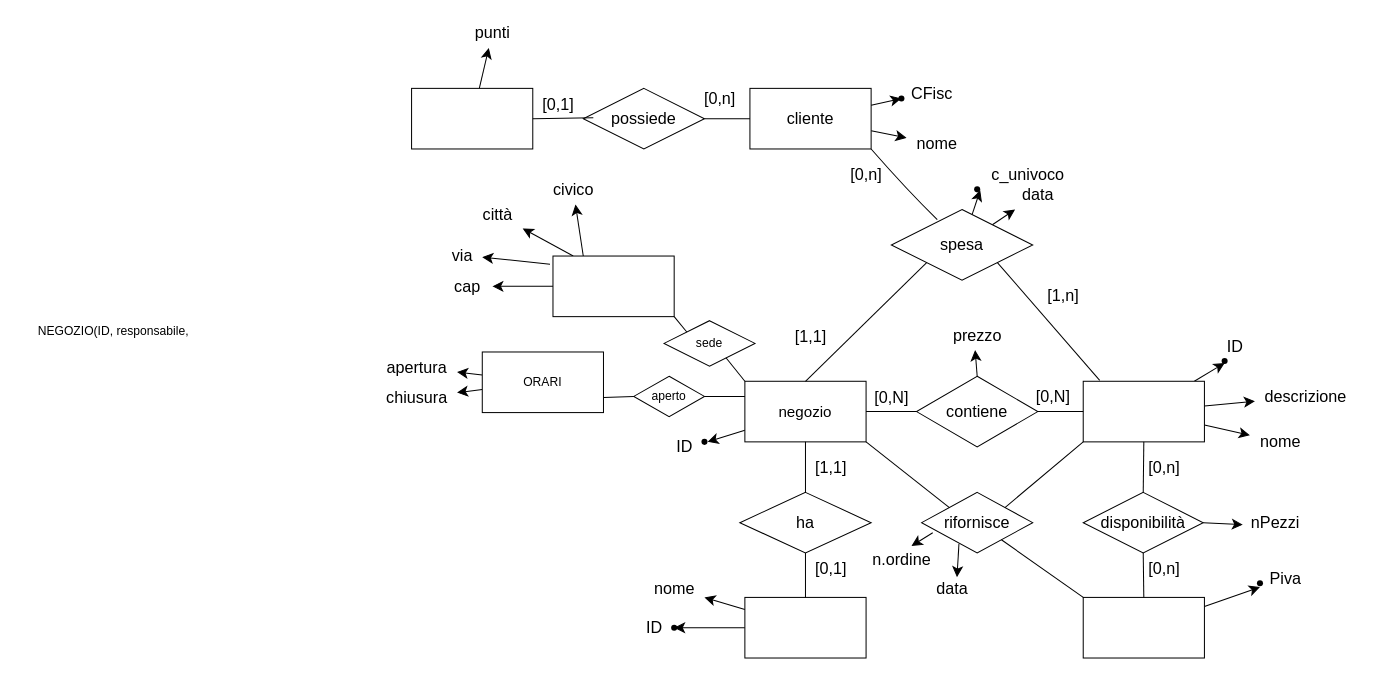
This 1373x676 diagram has some shape labels left out. The shapes that lost their labels are listed below. From the top down, each one's box as (x1, y1, x2, y2) in pixels, then its label:
(411, 87, 533, 149): tessera fedeltà
(552, 255, 674, 317): INDIRIZZO
(1082, 380, 1204, 442): prodotto
(744, 596, 866, 658): responsabile
(1082, 596, 1204, 658): fornitore
